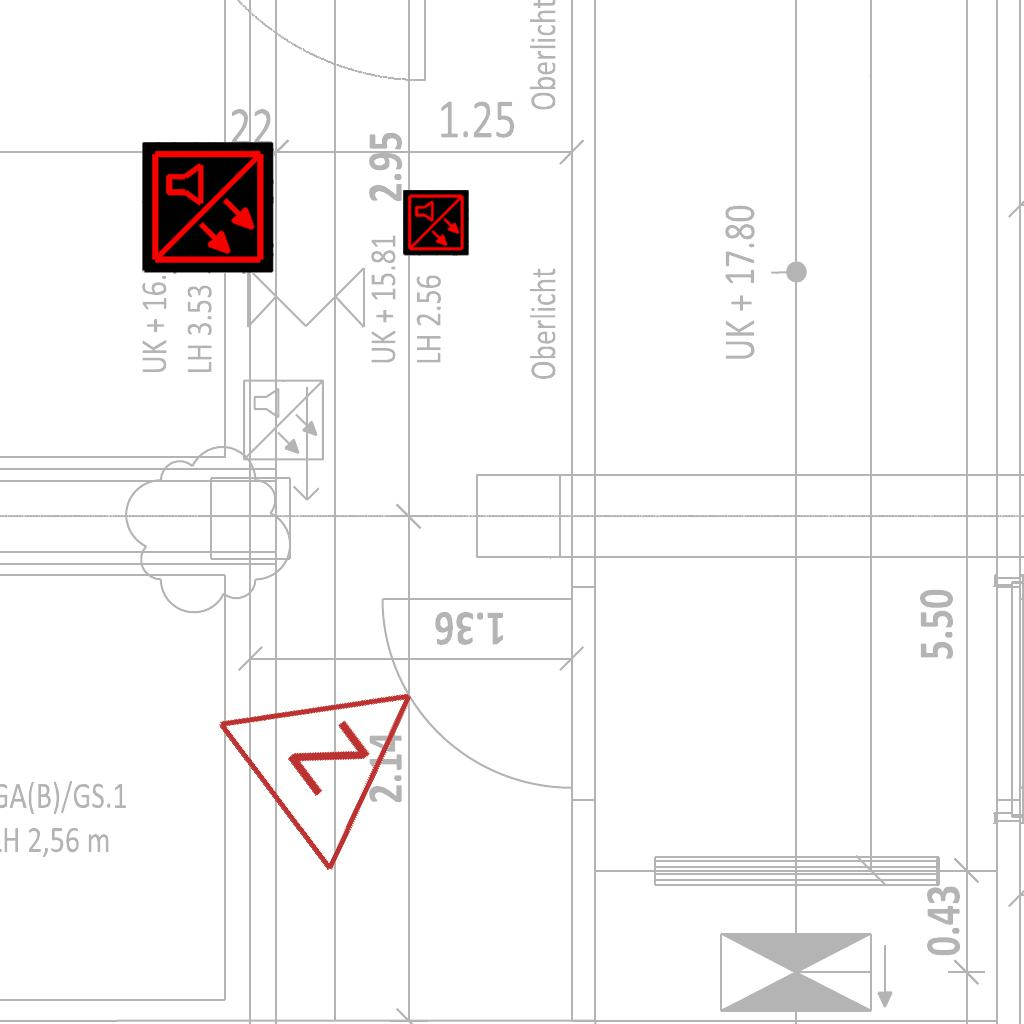OKW_Multisensormelder_(Kombination_optischer_Rauch-Kahlenmonoxid_Waerme-Melder): (142, 142, 274, 274), (403, 190, 469, 256)
Zimmersignalleuchte: (201, 606, 479, 884)
